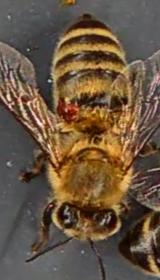varroa_mite: (58, 96, 92, 120)
